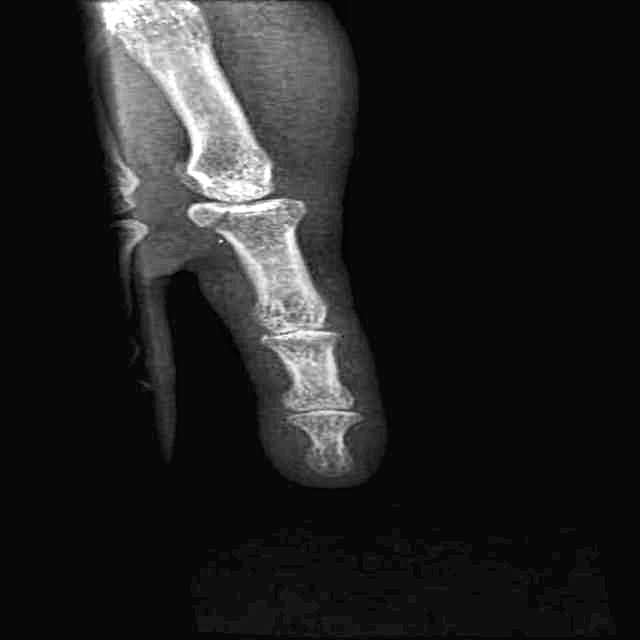Greenstick: (164, 176, 283, 246)
